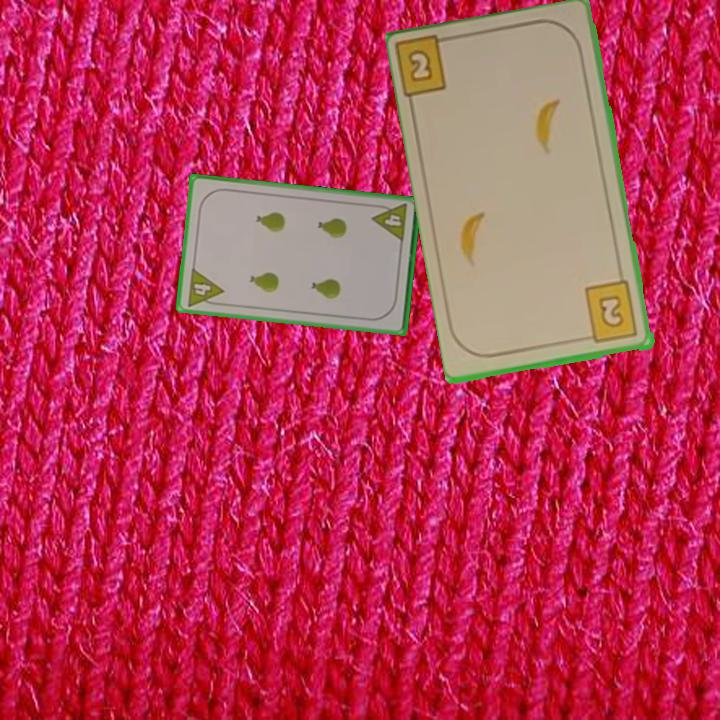2b: (395, 32, 459, 103), (580, 278, 641, 346)
4p: (183, 265, 226, 309), (369, 200, 410, 245)
